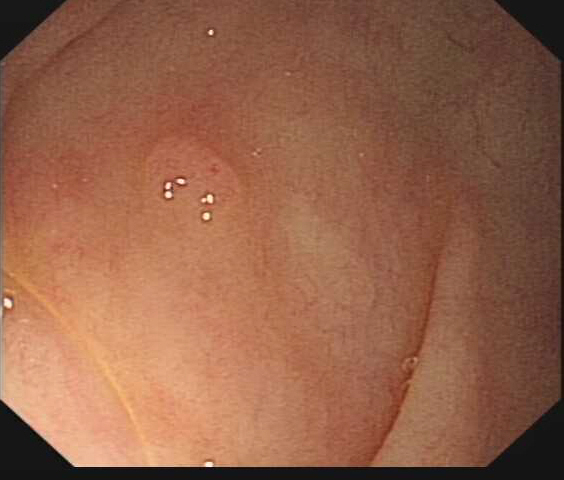others: (138, 130, 243, 237)
